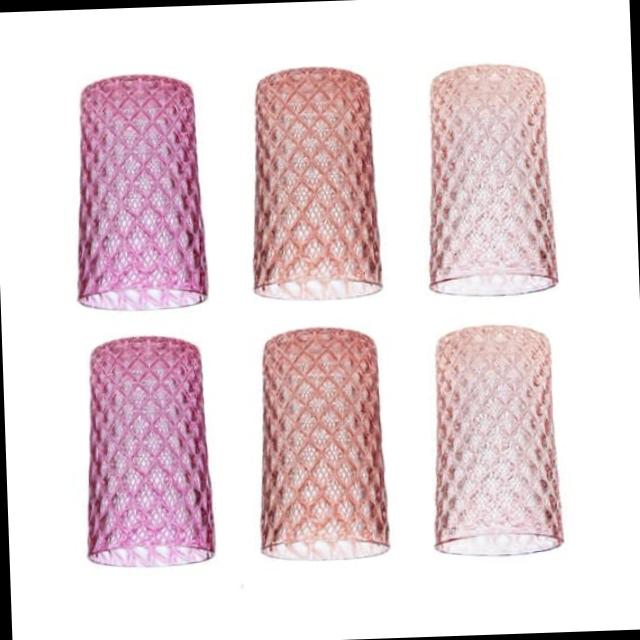glass: (57, 62, 238, 320), (416, 311, 572, 568), (413, 46, 562, 311), (248, 312, 396, 569), (236, 61, 387, 306), (82, 322, 219, 578)
